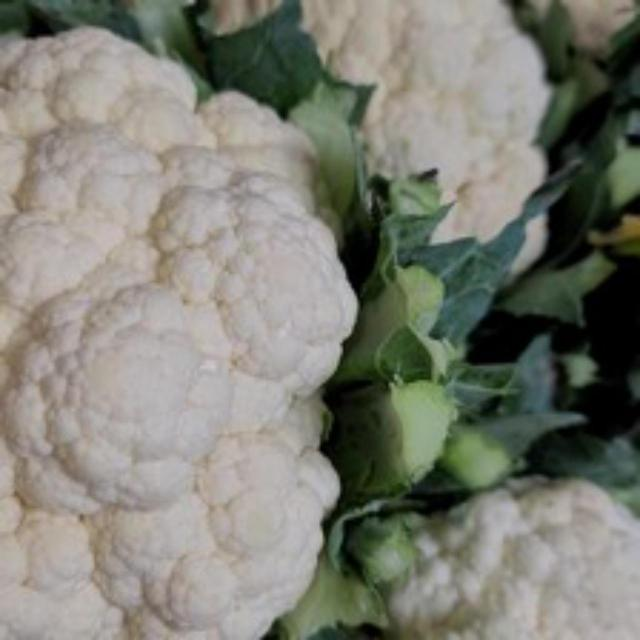cauliflower: (0, 26, 382, 640)
